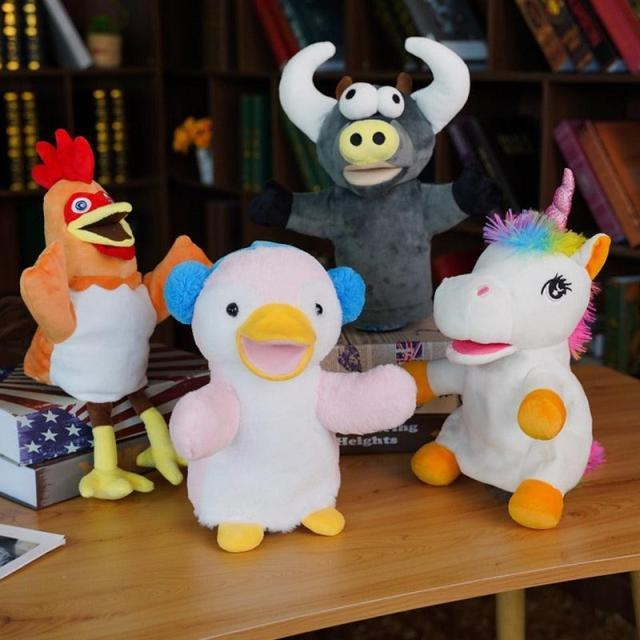soft-toy: (166, 242, 417, 553), (406, 171, 611, 530), (251, 39, 500, 332), (21, 131, 209, 500)
